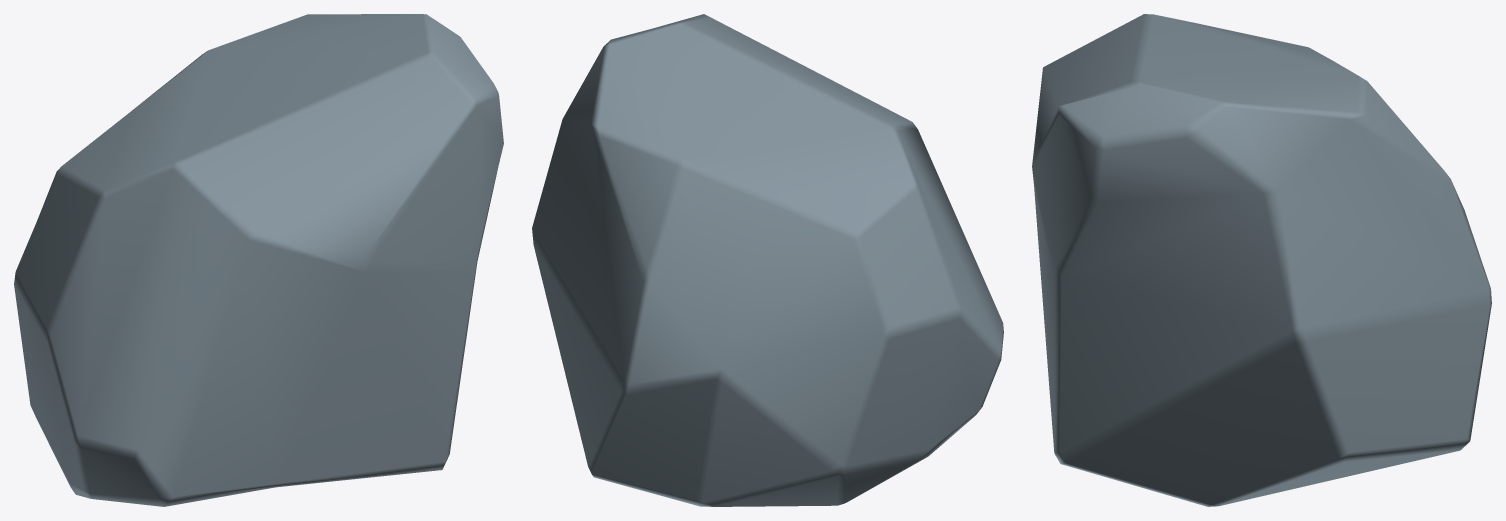
The model's file is PT_Generic_Rock_01.glb.
3 views of the same model, side by side, from view 1: azimuth 30°, elevation 25°; view 2: azimuth 150°, elevation 25°; view 3: azimuth 270°, elevation 25° (orthographic). The views are drawn at different scales.
Visible parts, largest first — view 1: PT_Generic_Rock_01_LOD0; view 2: PT_Generic_Rock_01_LOD0; view 3: PT_Generic_Rock_01_LOD0.
Boxes of the visible parts, x1,y1,x2,y2 form: PT_Generic_Rock_01_LOD0: [14, 14, 503, 506]; PT_Generic_Rock_01_LOD0: [532, 14, 1003, 506]; PT_Generic_Rock_01_LOD0: [1032, 14, 1491, 506].
Size of the model in its own units: 0.2519 by 0.2316 by 0.2177.
1 material, 1 textured.
